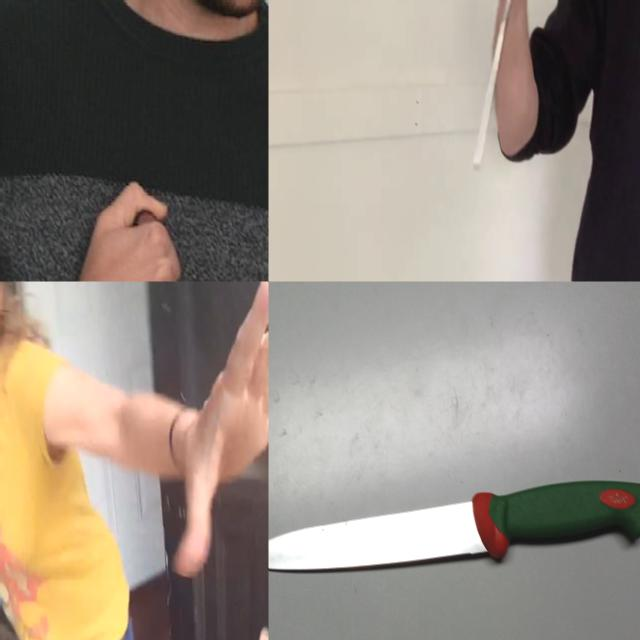Knife: (268, 480, 640, 569)
Knife_Handle: (472, 0, 552, 172), (81, 173, 181, 281)
